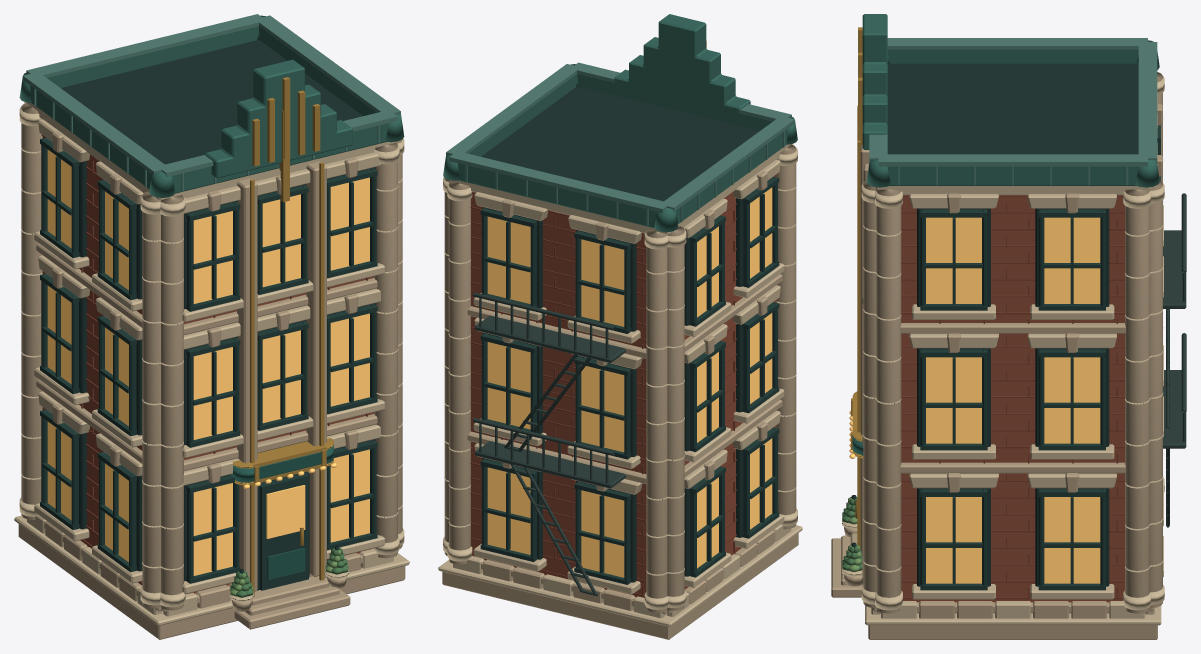
The picture shows the model from 3 angles, left to right: view 1: azimuth 30°, elevation 25°; view 2: azimuth 150°, elevation 25°; view 3: azimuth 270°, elevation 25°; orthographic projection. The views are drawn at different scales.
Visible parts, largest first — view 1: expansion_tower_3_geometry; view 2: expansion_tower_3_geometry; view 3: expansion_tower_3_geometry.
Part boxes in pixels (x1,y1,x2,y2): expansion_tower_3_geometry: (14,14,409,639); expansion_tower_3_geometry: (438,14,802,639); expansion_tower_3_geometry: (831,14,1186,639).
Bounding box in the file's own units: 0.8063 × 1.6 × 0.9285.
